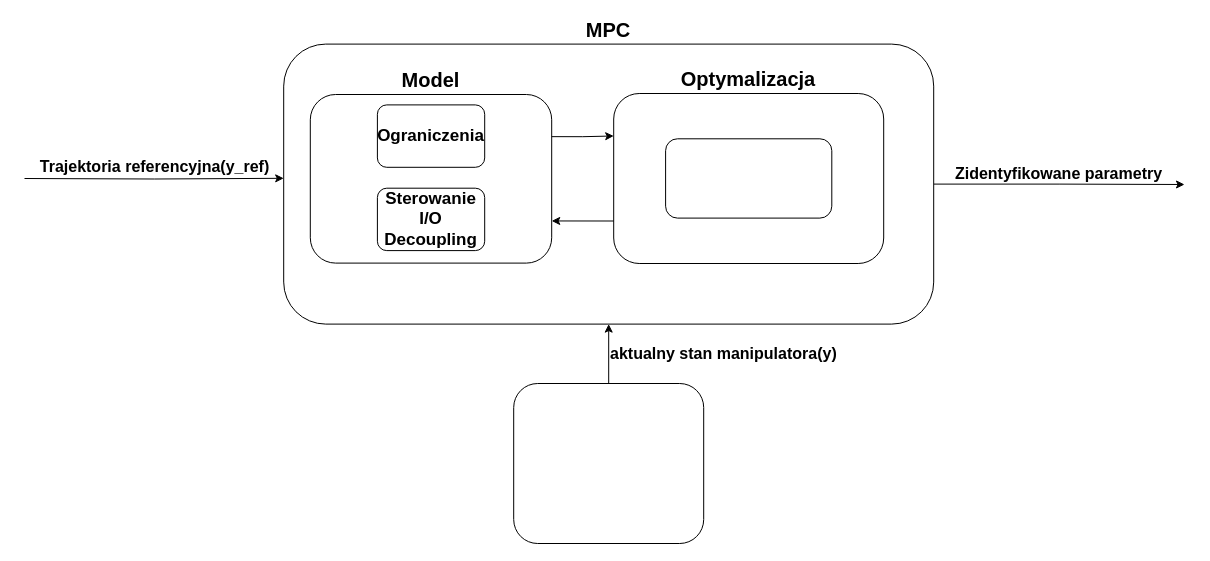
Image size: 1210x561. Some labels were removed from this diagram. The shapes that lost their labels are listed below. From the top down, each one's centre as x and y in pixels, then its label:
point (748, 178): Funkcja Kosztu
point (608, 463): Obiekt Sterowania
